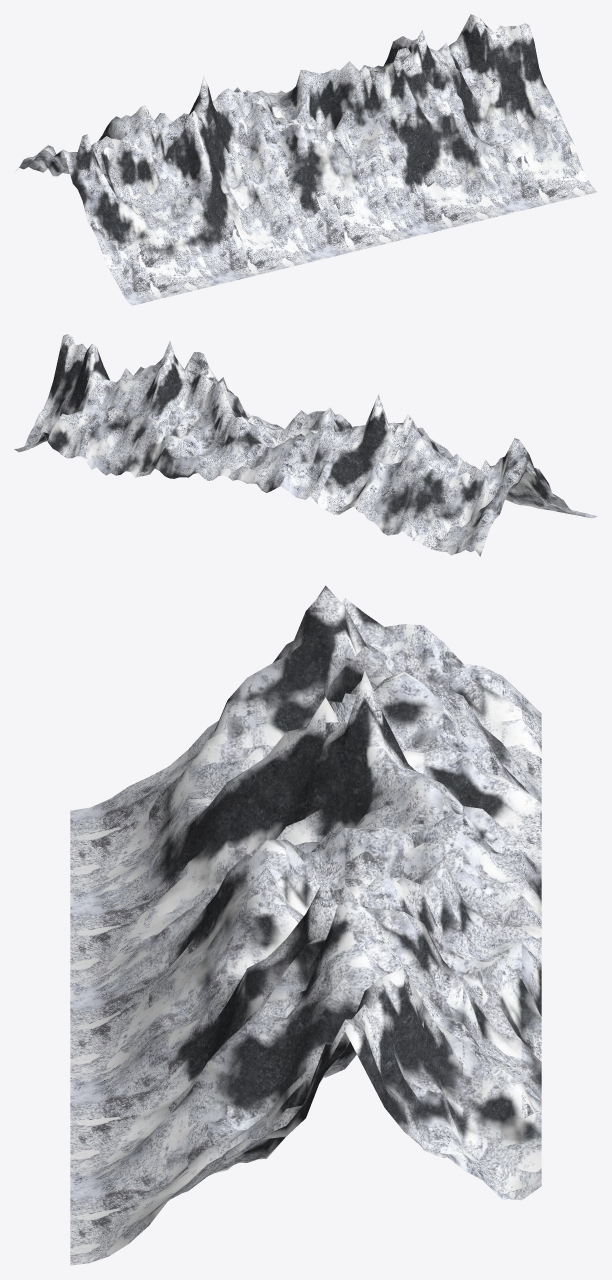
Rendered from mountain_ridge.glb.
3 views of the same model, one above another, from view 1: azimuth 30°, elevation 25°; view 2: azimuth 150°, elevation 25°; view 3: azimuth 270°, elevation 25° (orthographic). The views are drawn at different scales.
Visible parts, largest first — view 1: mountain_ridge; view 2: mountain_ridge; view 3: mountain_ridge.
Part boxes in pixels (x1=…): mountain_ridge: x1=16, y1=14, x2=597, y2=305; mountain_ridge: x1=14, y1=334, x2=597, y2=556; mountain_ridge: x1=70, y1=585, x2=541, y2=1265.
Size of the model in its own units: 1600 by 463 by 700.
1 material, 1 textured.
